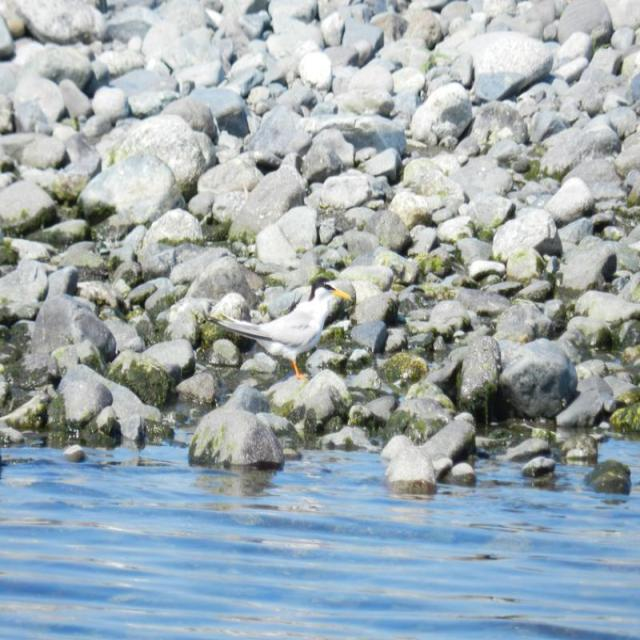bird: (210, 270, 353, 370)
